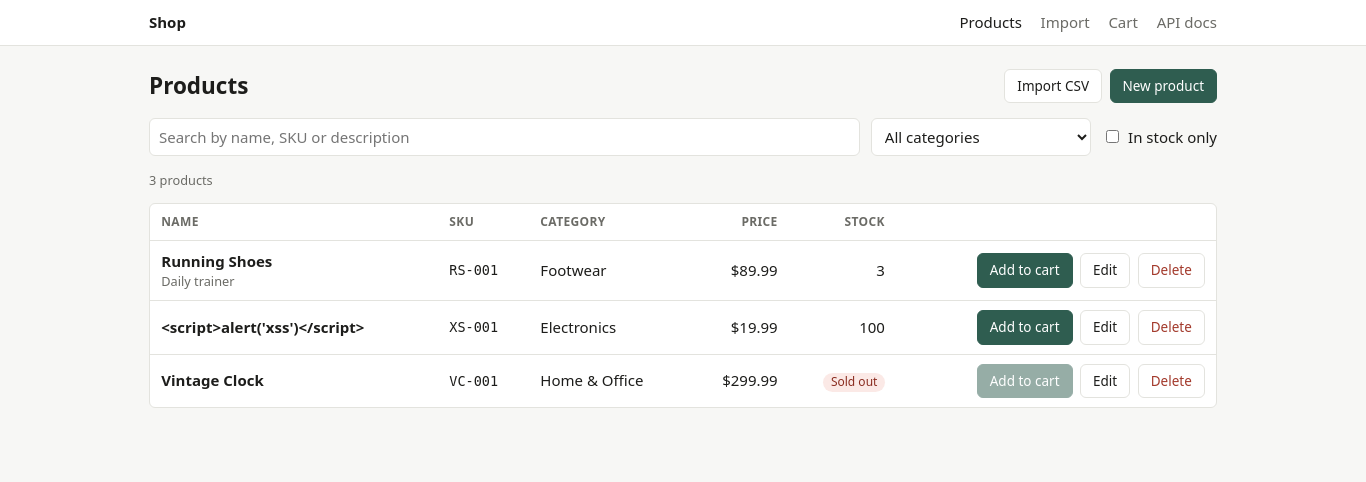
Test case: product list › adds products to the cart
The image size is (1366, 482).
Click the button "Add to cart" in the row of "Running Shoes" at [1025, 270], box left=977, top=253, right=1072, bottom=288
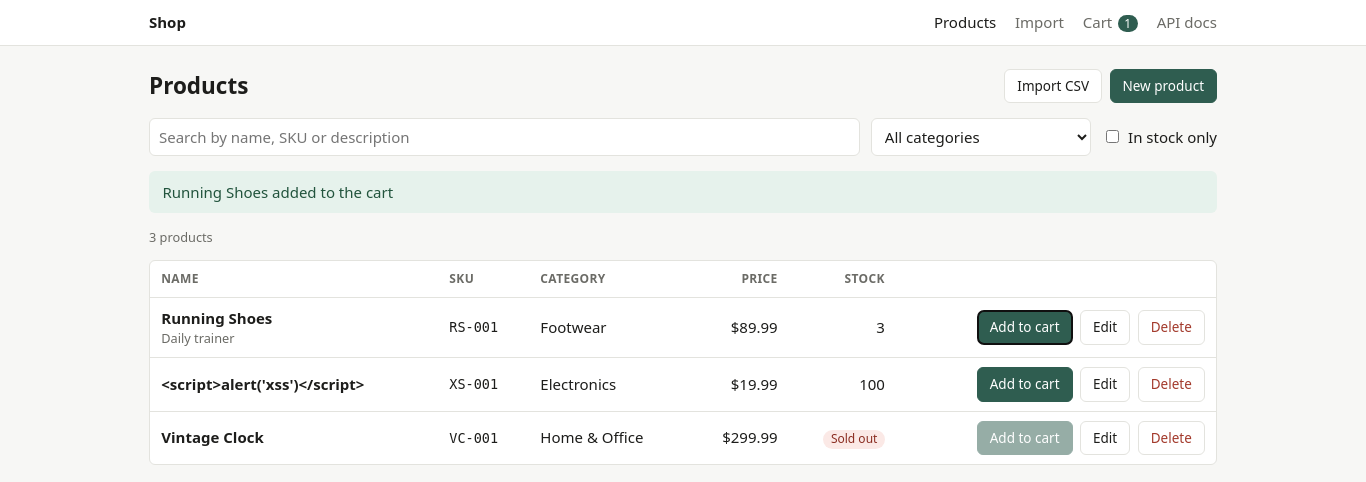
Check: the link "Cart1" is shown, box left=1083, top=11, right=1138, bottom=34
